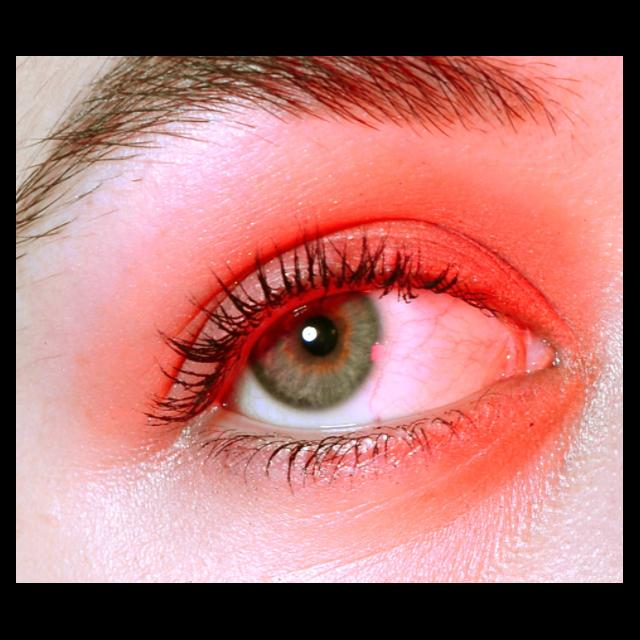eye: (234, 292, 507, 431)
iris: (251, 294, 380, 408)
